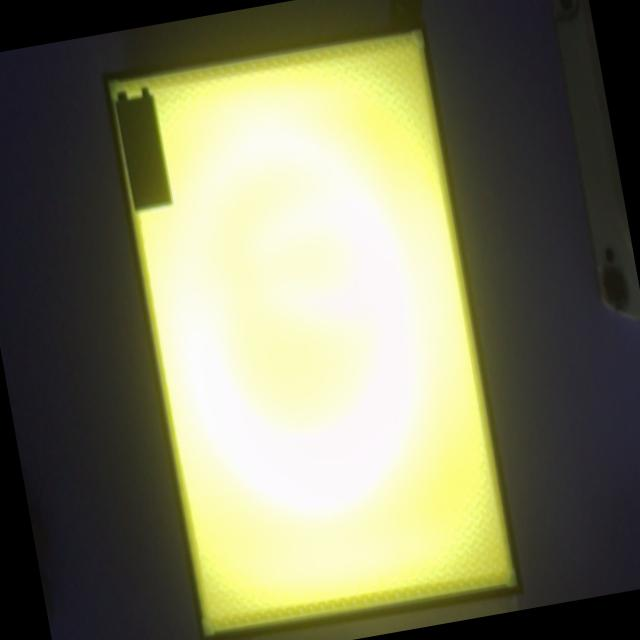bateria: (115, 86, 173, 211)
mesa: (101, 18, 524, 640)
